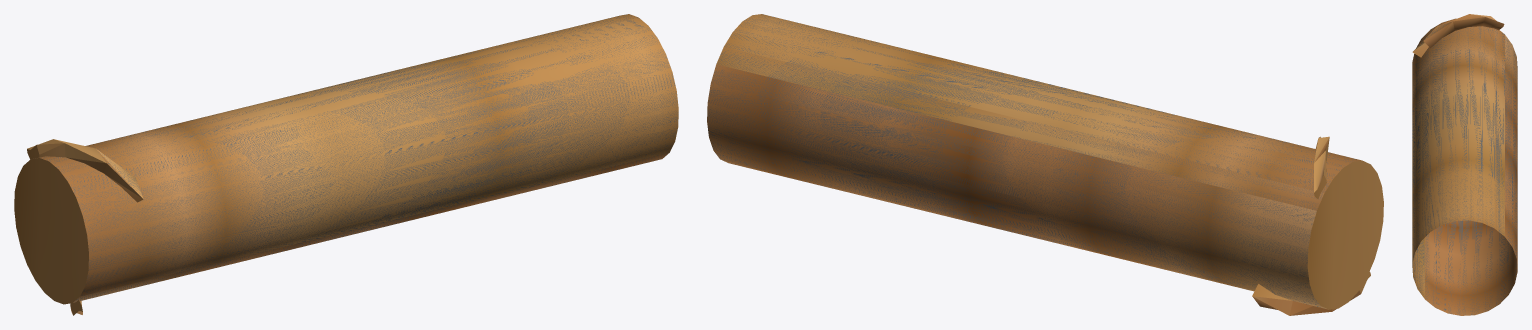
File: original-184.obj
3 views of the same model, side by side, from view 1: azimuth 30°, elevation 25°; view 2: azimuth 150°, elevation 25°; view 3: azimuth 270°, elevation 25° (orthographic). The views are drawn at different scales.
Visible parts, largest first — view 1: mesh141/mesh141-geometry#mesh141-geometry; view 2: mesh141/mesh141-geometry#mesh141-geometry; view 3: mesh141/mesh141-geometry#mesh141-geometry.
Part boxes in pixels (<box>): mesh141/mesh141-geometry#mesh141-geometry: <box>14,14,678,315</box>; mesh141/mesh141-geometry#mesh141-geometry: <box>707,14,1383,315</box>; mesh141/mesh141-geometry#mesh141-geometry: <box>1412,14,1517,315</box>.
Bounding box in the file's own units: 0.0356 × 0.00941 × 0.00783.
Materials: 2 (1 with a texture image).
